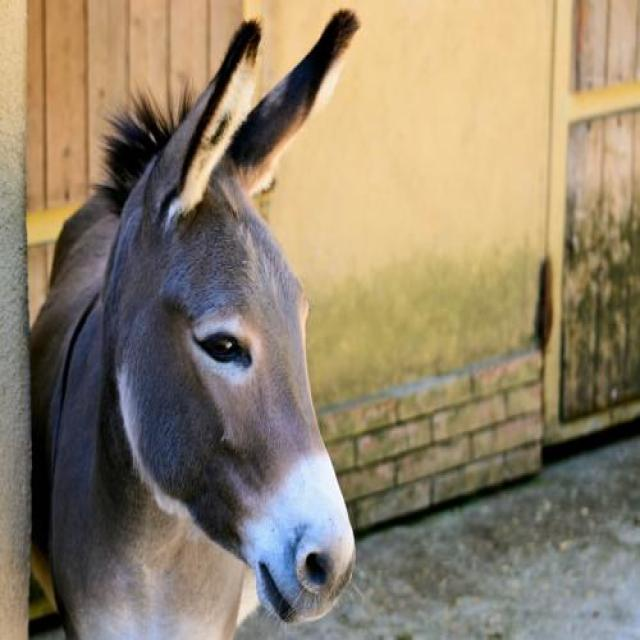Donkey: (31, 5, 363, 640)
